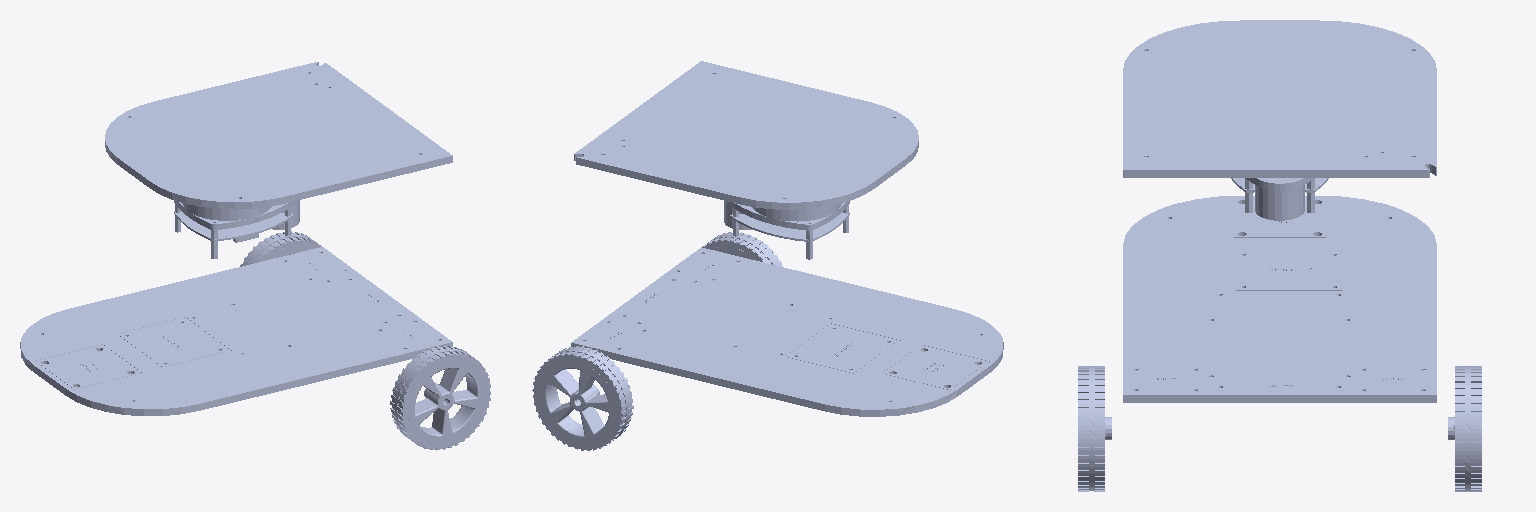
URDF robot description (rudolph_v4):
<?xml version="1.0" encoding="utf-8"?>
<!-- This URDF was automatically created by SolidWorks to URDF Exporter! Originally created by [author] ([email redacted]) 
     Commit Version: 1.6.0-4-g7f85cfe  Build Version: 1.6.7995.38578
     For more information, please see http://wiki.ros.org/sw_urdf_exporter -->
<robot
  name="rudolph_v4">
  <link
    name="footprint">
    <inertial>
      <origin
        xyz="0.0201377391083233 0.00589614363224876 0.114446431952097"
        rpy="0 0 0" />
      <mass
        value="0.967190772167895" />
      <inertia
        ixx="0.00203017514247501"
        ixy="2.82248237015213E-06"
        ixz="6.30629341824404E-07"
        iyy="0.0035897929679706"
        iyz="-7.32674381029651E-07"
        izz="0.00548735070363094" />
    </inertial>
    <visual>
      <origin
        xyz="0 0 0"
        rpy="0 0 0" />
      <geometry>
        <mesh
          filename="package://rudolph_v4/meshes/footprint.STL" />
      </geometry>
      <material
        name="">
        <color
          rgba="0.647058823529412 0.517647058823529 0 1" />
      </material>
    </visual>
    <collision>
      <origin
        xyz="0 0 0"
        rpy="0 0 0" />
      <geometry>
        <mesh
          filename="package://rudolph_v4/meshes/footprint.STL" />
      </geometry>
    </collision>
  </link>
  <link
    name="base_link">
    <inertial>
      <origin
        xyz="-0.122165211658201 -4.85872640913765E-06 -0.00300184230279451"
        rpy="0 0 0" />
      <mass
        value="0.343684409999019" />
      <inertia
        ixx="0.00109418059278303"
        ixy="-7.10430115040712E-08"
        ixz="-4.65149223006999E-08"
        iyy="0.0024082835601597"
        iyz="1.89355200813577E-09"
        izz="0.00350040441274559" />
    </inertial>
    <visual>
      <origin
        xyz="0 0 0"
        rpy="0 0 0" />
      <geometry>
        <mesh
          filename="package://rudolph_v4/meshes/base_link.STL" />
      </geometry>
      <material
        name="">
        <color
          rgba="0.792156862745098 0.819607843137255 0.933333333333333 1" />
      </material>
    </visual>
    <collision>
      <origin
        xyz="0 0 0"
        rpy="0 0 0" />
      <geometry>
        <mesh
          filename="package://rudolph_v4/meshes/base_link.STL" />
      </geometry>
    </collision>
  </link>
  <joint
    name="base_link"
    type="fixed">
    <origin
      xyz="0.1199 0 0.07677"
      rpy="0 0 0" />
    <parent
      link="footprint" />
    <child
      link="base_link" />
    <axis
      xyz="0 0 0" />
  </joint>
  <link
    name="laser">
    <inertial>
      <origin
        xyz="0.00676641398454259 -9.19718367893042E-05 -0.00981507539280285"
        rpy="0 0 0" />
      <mass
        value="1.33010751695787" />
      <inertia
        ixx="0.00061377057687069"
        ixy="-8.0197011225056E-07"
        ixz="0.000158237807214438"
        iyy="0.000959131136457615"
        iyz="-3.0936846683567E-06"
        izz="0.00109694905180103" />
    </inertial>
    <visual>
      <origin
        xyz="0 0 0"
        rpy="0 0 0" />
      <geometry>
        <mesh
          filename="package://rudolph_v4/meshes/laser.STL" />
      </geometry>
      <material
        name="">
        <color
          rgba="0.792156862745098 0.819607843137255 0.933333333333333 1" />
      </material>
    </visual>
    <collision>
      <origin
        xyz="0 0 0"
        rpy="0 0 0" />
      <geometry>
        <mesh
          filename="package://rudolph_v4/meshes/laser.STL" />
      </geometry>
    </collision>
  </link>
  <joint
    name="lidar"
    type="fixed">
    <origin
      xyz="-0.1199 0 0.1271"
      rpy="0 0 0" />
    <parent
      link="base_link" />
    <child
      link="laser" />
    <axis
      xyz="0 0 0" />
  </joint>
  <link
    name="right_wheel">
    <inertial>
      <origin
        xyz="-2.3037127760972E-15 0.000128187508022362 2.15105711021124E-16"
        rpy="0 0 0" />
      <mass
        value="0.0566666492820036" />
      <inertia
        ixx="2.86195955633458E-05"
        ixy="-1.44874702257291E-19"
        ixz="9.67538371676845E-18"
        iyy="5.44361404566751E-05"
        iyz="3.28892177791244E-20"
        izz="2.86195955633414E-05" />
    </inertial>
    <visual>
      <origin
        xyz="0 0 0"
        rpy="0 0 0" />
      <geometry>
        <mesh
          filename="package://rudolph_v4/meshes/right_wheel.STL" />
      </geometry>
      <material
        name="">
        <color
          rgba="0.792156862745098 0.819607843137255 0.933333333333333 1" />
      </material>
    </visual>
    <collision>
      <origin
        xyz="0 0 0"
        rpy="0 0 0" />
      <geometry>
        <mesh
          filename="package://rudolph_v4/meshes/right_wheel.STL" />
      </geometry>
    </collision>
  </link>
  <joint
    name="right"
    type="continuous">
    <origin
      xyz="0.1199 -0.11994 0.0425"
      rpy="0 0 0" />
    <parent
      link="footprint" />
    <child
      link="right_wheel" />
    <axis
      xyz="0 -1 0" />
  </joint>
  <link
    name="left_wheel">
    <inertial>
      <origin
        xyz="-2.1094237467878E-15 -0.000128187508022348 -8.43075609324728E-16"
        rpy="0 0 0" />
      <mass
        value="0.0566666492820037" />
      <inertia
        ixx="2.86195955633805E-05"
        ixy="1.60099748394835E-19"
        ixz="-7.02435105572206E-18"
        iyy="5.44361404567349E-05"
        iyz="5.38911121195928E-20"
        izz="2.86195955633666E-05" />
    </inertial>
    <visual>
      <origin
        xyz="0 0 0"
        rpy="0 0 0" />
      <geometry>
        <mesh
          filename="package://rudolph_v4/meshes/left_wheel.STL" />
      </geometry>
      <material
        name="">
        <color
          rgba="0.792156862745098 0.819607843137255 0.933333333333333 1" />
      </material>
    </visual>
    <collision>
      <origin
        xyz="0 0 0"
        rpy="0 0 0" />
      <geometry>
        <mesh
          filename="package://rudolph_v4/meshes/left_wheel.STL" />
      </geometry>
    </collision>
  </link>
  <joint
    name="left"
    type="continuous">
    <origin
      xyz="0.1199 0.11994 0.0425"
      rpy="0 0 0" />
    <parent
      link="footprint" />
    <child
      link="left_wheel" />
    <axis
      xyz="0 -1 0" />
  </joint>
  <link
    name="UPS">
    <inertial>
      <origin
        xyz="0.0347933430750397 -0.000116190741974557 -0.00299999999999997"
        rpy="0 0 0" />
      <mass
        value="0.255010204859763" />
      <inertia
        ixx="0.000793573677370603"
        ixy="2.9783586931944E-06"
        ixz="1.05018285233613E-21"
        iyy="0.000992227100894082"
        iyz="3.43935691831692E-22"
        izz="0.00178427071703553" />
    </inertial>
    <visual>
      <origin
        xyz="0 0 0"
        rpy="0 0 0" />
      <geometry>
        <mesh
          filename="package://rudolph_v4/meshes/UPS.STL" />
      </geometry>
      <material
        name="">
        <color
          rgba="0.792156862745098 0.819607843137255 0.933333333333333 1" />
      </material>
    </visual>
    <collision>
      <origin
        xyz="0 0 0"
        rpy="0 0 0" />
      <geometry>
        <mesh
          filename="package://rudolph_v4/meshes/UPS.STL" />
      </geometry>
    </collision>
  </link>
  <joint
    name="ultar_sonic_position"
    type="fixed">
    <origin
      xyz="0 0 0.234769976584764"
      rpy="0 0 0" />
    <parent
      link="footprint" />
    <child
      link="UPS" />
    <axis
      xyz="0 0 0" />
  </joint>
</robot>

--- Render facts (derived) ---
3 views of the same robot in one strip: view 1: azimuth 30°, elevation 25°; view 2: azimuth 150°, elevation 25°; view 3: azimuth 270°, elevation 25° (orthographic).
Robot: rudolph_v4 — 6 links, 5 joints (2 continuous, 3 fixed); root link footprint; default pose: every joint at zero.
Links seen in each view (by area): view 1: base_link, UPS, right_wheel, laser, left_wheel; view 2: base_link, UPS, left_wheel, laser, right_wheel; view 3: base_link, UPS, left_wheel, right_wheel, laser.
Link boxes in pixels (<box>): base_link: <box>20,247,452,415</box>; UPS: <box>105,62,452,208</box>; right_wheel: <box>390,346,490,449</box>; laser: <box>174,200,299,258</box>; left_wheel: <box>240,231,321,266</box>; base_link: <box>571,247,1003,416</box>; UPS: <box>574,61,918,209</box>; left_wheel: <box>532,346,633,450</box>; laser: <box>724,201,849,259</box>; right_wheel: <box>702,232,782,266</box>; base_link: <box>1123,196,1436,402</box>; UPS: <box>1123,20,1436,177</box>; left_wheel: <box>1448,366,1481,491</box>; right_wheel: <box>1078,366,1111,491</box>; laser: <box>1231,178,1328,220</box>.
Bounding box of the posed robot: 0.3179 × 0.2569 × 0.2323 m (x, y, z).
Meshes: 6 distinct files referenced, 5 mesh visuals loaded (5 binary STL); not drawn: 1 (reference not matched to a file when rendering).